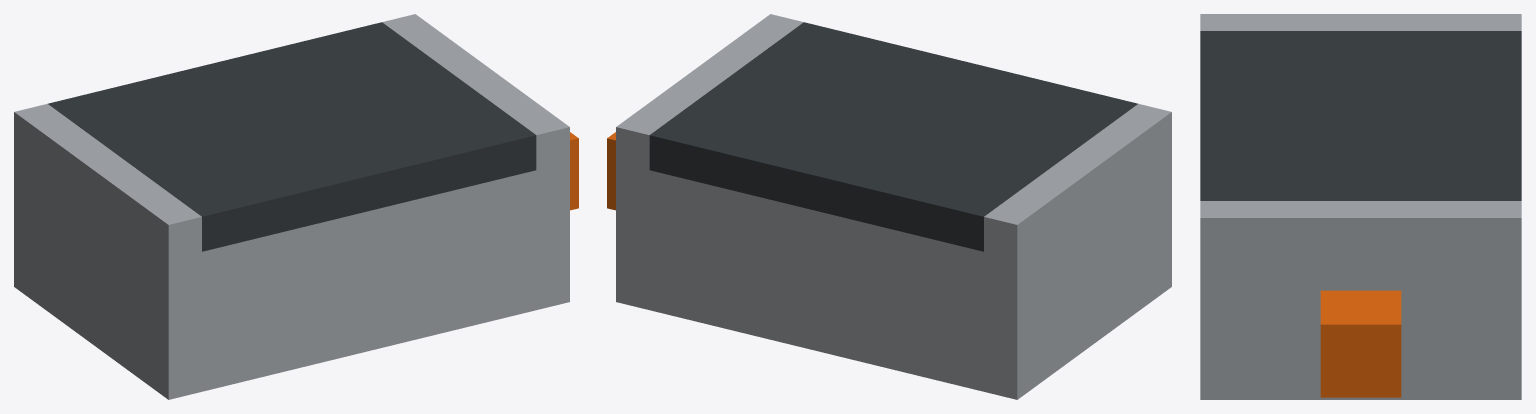
File: inverter_car.glb
3 renders of one model, left to right at view 1: azimuth 30°, elevation 25°; view 2: azimuth 150°, elevation 25°; view 3: azimuth 270°, elevation 25°, orthographic. The views are drawn at different scales.
Visible parts, largest first — view 1: body:compound; view 2: body:compound; view 3: body:compound.
Part boxes in pixels (x1,y1,x2,y2): body:compound: (14,14,578,399); body:compound: (607,14,1171,399); body:compound: (1200,14,1521,399).
Size of the model in its own units: 0.4375 by 0.1562 by 0.25.
